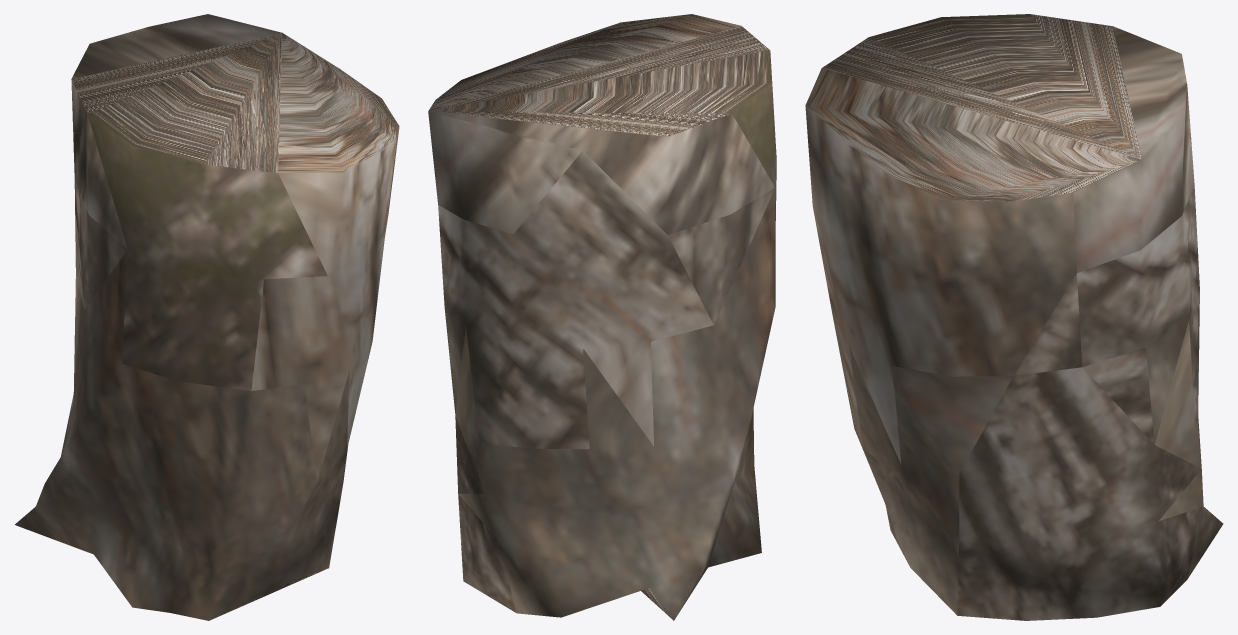
File: musloDer.obj
3 renders of one model, left to right at view 1: azimuth 30°, elevation 25°; view 2: azimuth 150°, elevation 25°; view 3: azimuth 270°, elevation 25°, orthographic. The views are drawn at different scales.
Parts seen in each view (by area): view 1: musloDer; view 2: musloDer; view 3: musloDer.
Boxes of the visible parts, x1,y1,x2,y2 form: musloDer: [15, 14, 399, 620]; musloDer: [428, 14, 776, 620]; musloDer: [805, 14, 1223, 620].
Bounding box in the file's own units: 0.0957 × 0.1479 × 0.1128.
Materials: 1 (1 with a texture image).
